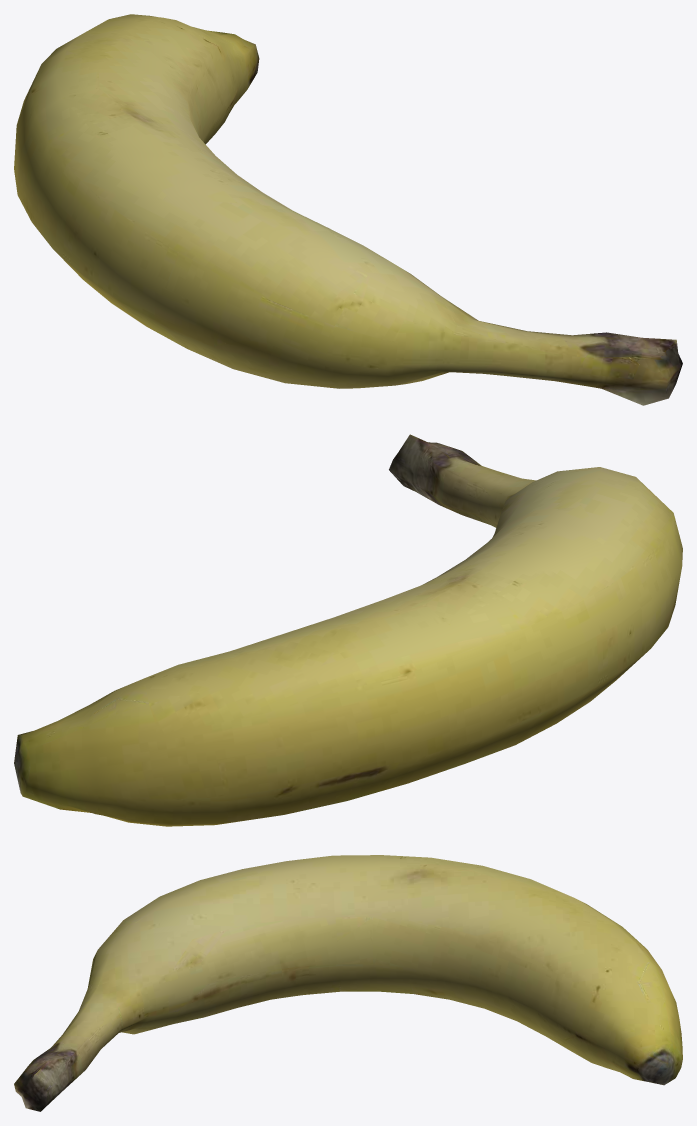
The model's file is banana_be9888a7_visual.obj.
3 views of the same model, one above another, from view 1: azimuth 30°, elevation 25°; view 2: azimuth 150°, elevation 25°; view 3: azimuth 270°, elevation 25° (orthographic). The views are drawn at different scales.
Size of the model in its own units: 0.0734 by 0.03 by 0.1337.
1 material, 1 textured.
